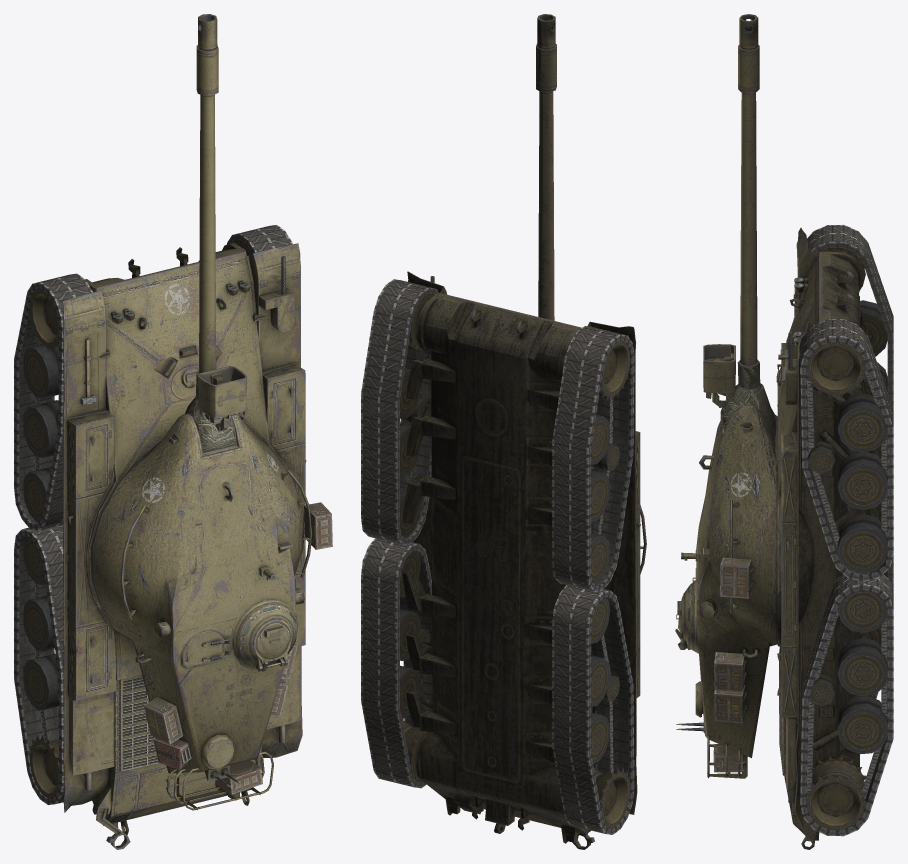
3 views of the same model, side by side, from view 1: azimuth 30°, elevation 25°; view 2: azimuth 150°, elevation 25°; view 3: azimuth 270°, elevation 25° (orthographic). The views are drawn at different scales.
Visible parts, largest first — view 1: hull, turret_01, chassis_track_L_02, chassis_track_L_01, gun_01, gun_01_mask, chassis_wheel_L_09, chassis_wheel_L_02, chassis_wheel_L_04, chassis_wheel_L_10, chassis_wheel_L_01, chassis_wheel_L_07 (+3 smaller); view 2: hull, chassis_track_L_01, chassis_track_L_02, chassis_track_R_01, chassis_track_R_02, gun_01, chassis_wheel_L_10, chassis_wheel_L_01, chassis_wheel_L_07, chassis_wheel_L_04, chassis_wheel_L_09, chassis_wheel_L_05 (+6 smaller); view 3: hull, turret_01, chassis_track_R_01, chassis_track_R_02, gun_01, gun_01_mask, chassis_wheel_R_10, chassis_track_L_01, chassis_wheel_R_01, chassis_wheel_R_07, chassis_wheel_R_04, chassis_wheel_R_09 (+6 smaller).
Boxes of the visible parts, x1=… form: hull: x1=62, y1=243, x2=306, y2=849; turret_01: x1=90, y1=413, x2=332, y2=810; chassis_track_L_02: x1=14, y1=525, x2=64, y2=804; chassis_track_L_01: x1=14, y1=273, x2=93, y2=530; gun_01: x1=196, y1=14, x2=218, y2=373; gun_01_mask: x1=185, y1=366, x2=246, y2=452; chassis_wheel_L_09: x1=23, y1=653, x2=58, y2=710; chassis_wheel_L_02: x1=23, y1=344, x2=58, y2=398; chassis_wheel_L_04: x1=23, y1=400, x2=58, y2=457; chassis_wheel_L_10: x1=29, y1=735, x2=59, y2=798; chassis_wheel_L_01: x1=29, y1=289, x2=59, y2=352; chassis_wheel_L_07: x1=23, y1=595, x2=54, y2=651; hull: x1=402, y1=271, x2=640, y2=849; chassis_track_L_01: x1=552, y1=326, x2=634, y2=591; chassis_track_L_02: x1=552, y1=585, x2=634, y2=834; chassis_track_R_01: x1=361, y1=279, x2=438, y2=545; chassis_track_R_02: x1=361, y1=538, x2=432, y2=788; gun_01: x1=536, y1=14, x2=556, y2=320; chassis_wheel_L_10: x1=593, y1=764, x2=630, y2=828; chassis_wheel_L_01: x1=600, y1=340, x2=630, y2=400; chassis_wheel_L_07: x1=591, y1=655, x2=610, y2=706; chassis_wheel_L_04: x1=591, y1=470, x2=610, y2=522; chassis_wheel_L_09: x1=591, y1=712, x2=609, y2=764; chassis_wheel_L_05: x1=591, y1=532, x2=610, y2=583; hull: x1=776, y1=227, x2=874, y2=849; turret_01: x1=675, y1=406, x2=777, y2=778; chassis_track_R_01: x1=800, y1=319, x2=893, y2=581; chassis_track_R_02: x1=800, y1=574, x2=893, y2=836; gun_01: x1=738, y1=14, x2=759, y2=365; gun_01_mask: x1=703, y1=344, x2=773, y2=430; chassis_wheel_R_10: x1=806, y1=756, x2=867, y2=830; chassis_track_L_01: x1=807, y1=224, x2=893, y2=409; chassis_wheel_R_01: x1=806, y1=342, x2=867, y2=397; chassis_wheel_R_07: x1=837, y1=637, x2=887, y2=696; chassis_wheel_R_04: x1=837, y1=452, x2=887, y2=510; chassis_wheel_R_09: x1=838, y1=696, x2=887, y2=754.
Bounding box in the file's own units: 3.54 × 11.87 × 2.92.
2 materials, 2 textured.
